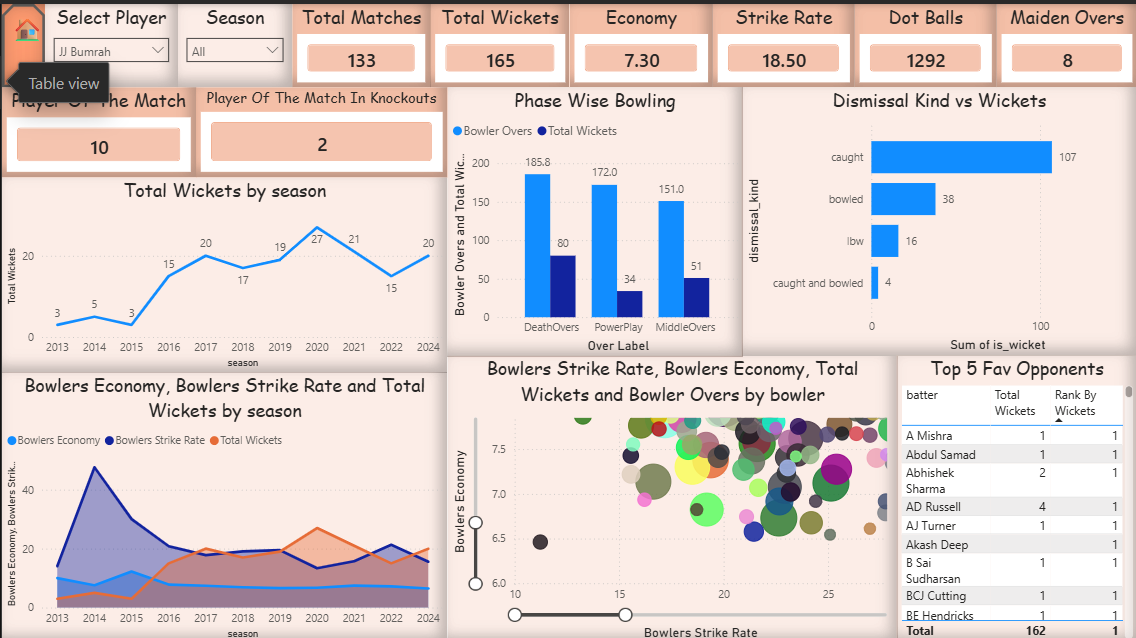

What the dashboard file says about the page in this screenshot:
{"tool":"powerbi","page":{"name":"Bowler Analytics","canvas":[1280,720],"ordinal":5},"visuals":[{"type":"slicer","title":"Season","fields":{"Values":["matches.season"]},"box":[198.1,0,129.1,93.9],"z":0},{"type":"slicer","title":"Select Player","fields":{"Values":["deliveries.bowler"]},"box":[48.4,0,149.7,93.9],"z":1000},{"type":"cardVisual","title":"Total Matches","fields":{"Data":["deliveries.Total Matches"]},"box":[327.2,0,155.5,93.9],"z":2000},{"type":"cardVisual","title":"Total Wickets","fields":{"Data":["deliveries.Total Wickets"]},"box":[482.8,0,157,93.9],"z":3000},{"type":"cardVisual","title":"Economy","fields":{"Data":["deliveries.Bowlers Economy"]},"box":[639.8,0,161.4,93.9],"z":4000},{"type":"cardVisual","title":"Strike Rate","fields":{"Data":["deliveries.Bowlers Strike Rate"]},"box":[801.2,0,160,93.9],"z":5000},{"type":"cardVisual","title":"Dot Balls","fields":{"Data":["deliveries.Dot Balls"]},"box":[961.2,0,160,93.9],"z":6000},{"type":"cardVisual","title":"Maiden Overs","fields":{"Data":["deliveries.Maiden Overs"]},"box":[1121.1,0,158.5,93.9],"z":7000},{"type":"lineChart","fields":{"Category":["matches.season"],"Y":["deliveries.Total Wickets"]},"box":[0,195.2,501.9,220.1],"z":8000},{"type":"scatterChart","fields":{"X":["deliveries.Bowlers Strike Rate"],"Y":["deliveries.Bowlers Economy"],"Series":["deliveries.bowler"],"Size":["deliveries.Total Wickets"]},"box":[501.9,396.2,507.7,324.3],"z":9000},{"type":"barChart","title":"Dismissal Kind vs Wickets","fields":{"Category":["deliveries.dismissal_kind"],"Y":["Sum(deliveries.is_wicket)"]},"box":[833.5,93.9,446.1,302.3],"z":10000},{"type":"clusteredColumnChart","title":"Phase Wise Bowling","fields":{"Category":["deliveries.Over Label"],"Y":["deliveries.Bowler Overs","deliveries.Total Wickets"]},"box":[501.9,93.9,333.1,303.8],"z":11000},{"type":"areaChart","fields":{"Category":["matches.season"],"Y":["deliveries.Bowlers Economy","deliveries.Bowlers Strike Rate","deliveries.Total Wickets"]},"box":[0,415.3,501.9,305.2],"z":12000},{"type":"cardVisual","title":"Player Of The Match","fields":{"Data":["deliveries.Player of The Match By Bowler"]},"box":[0,93.9,218.6,101.3],"z":13000},{"type":"tableEx","title":"Top 5 Fav Opponents","fields":{"Values":["deliveries.batter","deliveries.Total Wickets","deliveries.Batsman vs Bowler Rank"]},"box":[1008.1,396.2,271.5,324.3],"z":14000},{"type":"cardVisual","title":"Player Of The Match In Knockouts","fields":{"Data":["deliveries.Player of The Match In Knockouts By Bowler"]},"box":[218.6,93.9,283.2,101.3],"z":15000},{"type":"actionButton","box":[0,0,48.4,93.9],"z":16000}]}

Visuals, with their boxes on the page's 1280x720 design canvas (x1, y1, x2, y2). These are canvas units, not pixel positions in the 1136x638 screenshot, which may show the page scaled, cropped or inside an application window:
"Season" slicer: [198,0,327,94]
"Select Player" slicer: [48,0,198,94]
"Total Matches" cardVisual: [327,0,483,94]
"Total Wickets" cardVisual: [483,0,640,94]
"Economy" cardVisual: [640,0,801,94]
"Strike Rate" cardVisual: [801,0,961,94]
"Dot Balls" cardVisual: [961,0,1121,94]
"Maiden Overs" cardVisual: [1121,0,1280,94]
lineChart - matches.season x deliveries.Total Wickets: [0,195,502,415]
scatterChart - deliveries.Bowlers Strike Rate x deliveries.Bowlers Economy: [502,396,1010,720]
"Dismissal Kind vs Wickets" barChart: [834,94,1280,396]
"Phase Wise Bowling" clusteredColumnChart: [502,94,835,398]
areaChart - matches.season x deliveries.Bowlers Economy: [0,415,502,720]
"Player Of The Match" cardVisual: [0,94,219,195]
"Top 5 Fav Opponents" tableEx: [1008,396,1280,720]
"Player Of The Match In Knockouts" cardVisual: [219,94,502,195]
actionButton: [0,0,48,94]
